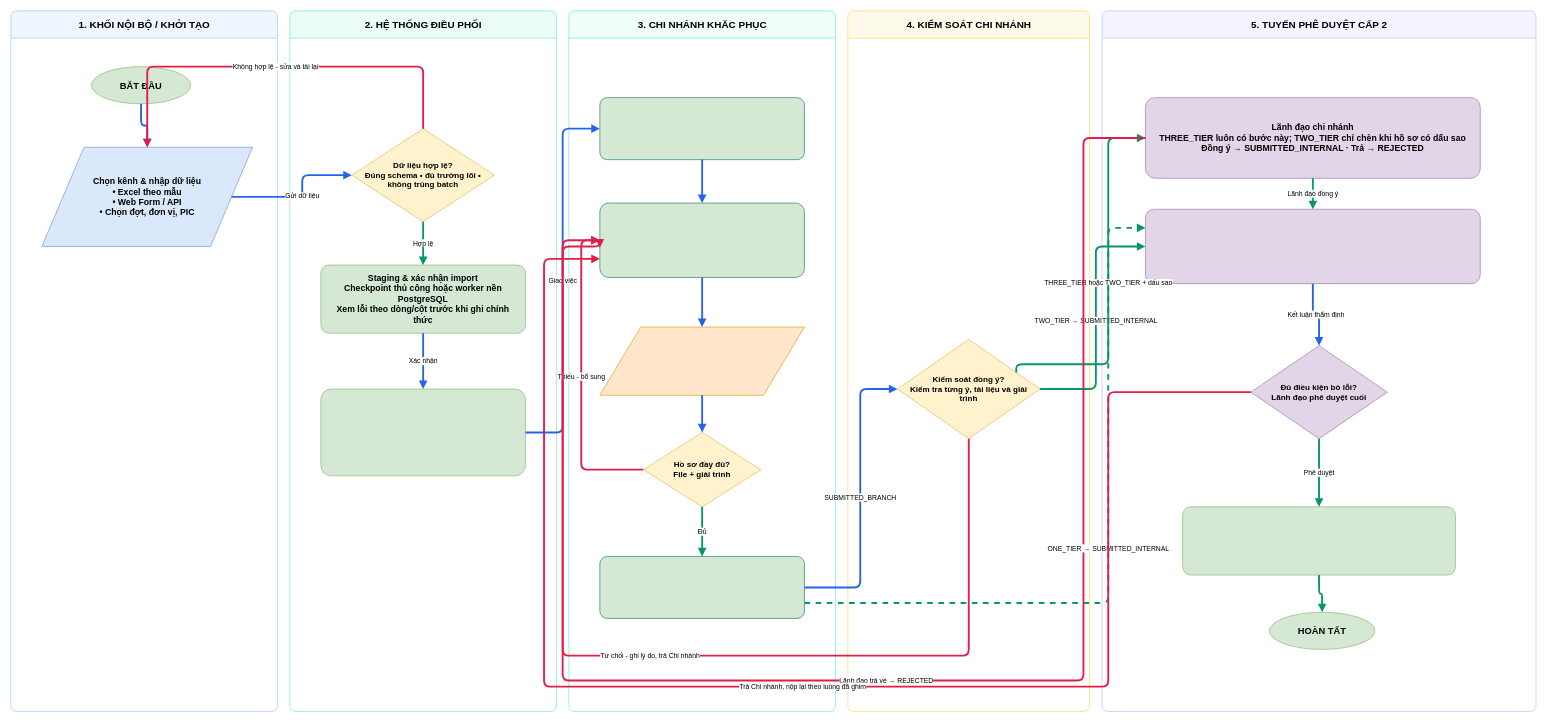
This 1547x722 diagram has some shape labels left out. The shapes that lost their labels are listed below. From the top down, each one's centre as x and y in pixels, then its label:
pixel 701 128: Tiếp nhận To-Do Xem lỗi, căn cứ và hạn xử lý
pixel 701 239: Khắc phục nghiệp vụ Bổ sung chứng từ • kiểm tra thực địa • hoàn thiện thủ tục
pixel 1312 246: Phê duyệt HT Đối chiếu sai sót, tài liệu, kết quả kiểm soát và quy định
pixel 701 360: Tải bằng chứng lên Drive Viết giải trình và kế hoạch khắc phục
pixel 422 432: Tạo hồ sơ PENDING Map Cụm → Chi nhánh → PIC Khởi tạo SLA và gửi To-Do
pixel 1318 540: Phê duyệt bỏ lỗi & đóng hồ sơ WAIVED_RESOLVED
pixel 701 587: Gửi duyệt theo cấu hình Luồng 1, 2 hoặc 3 cấp
